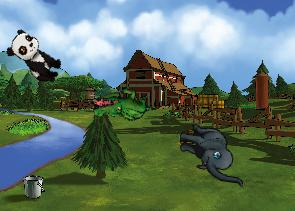crocodile: (88, 78, 156, 133)
elephant: (173, 122, 250, 187)
panda: (2, 26, 68, 88)
